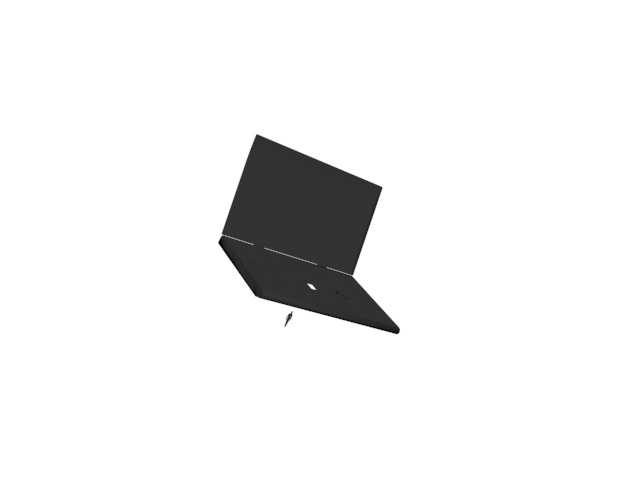laptop_computer: (217, 129, 408, 336)
